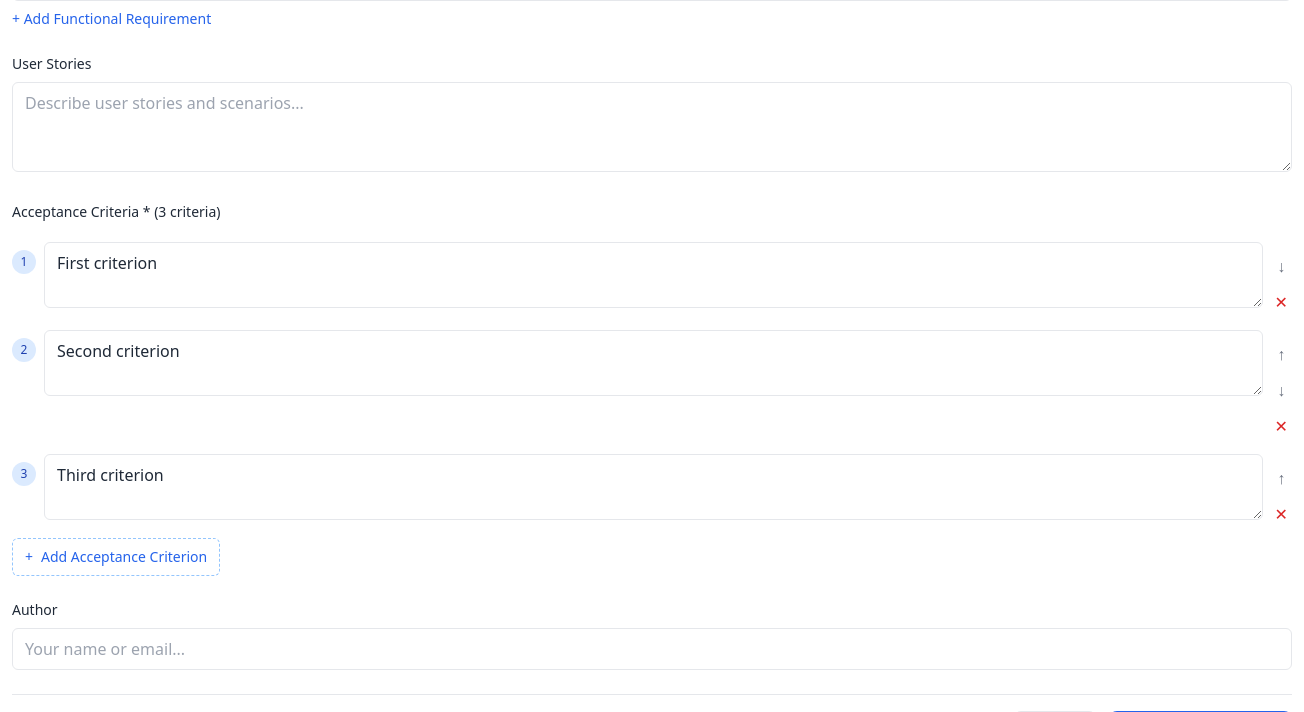
Scenario: RequirementForm - Acceptance Criteria Management › Reordering Criteria › should move criterion up with up arrow button
(page scrolled)
// Move second criterion up
What coordinates should you click on to do the following:
click the 1st button titled "Move up"
I would click on:
 (1281, 354)
Its box is [1271,338,1292,370].
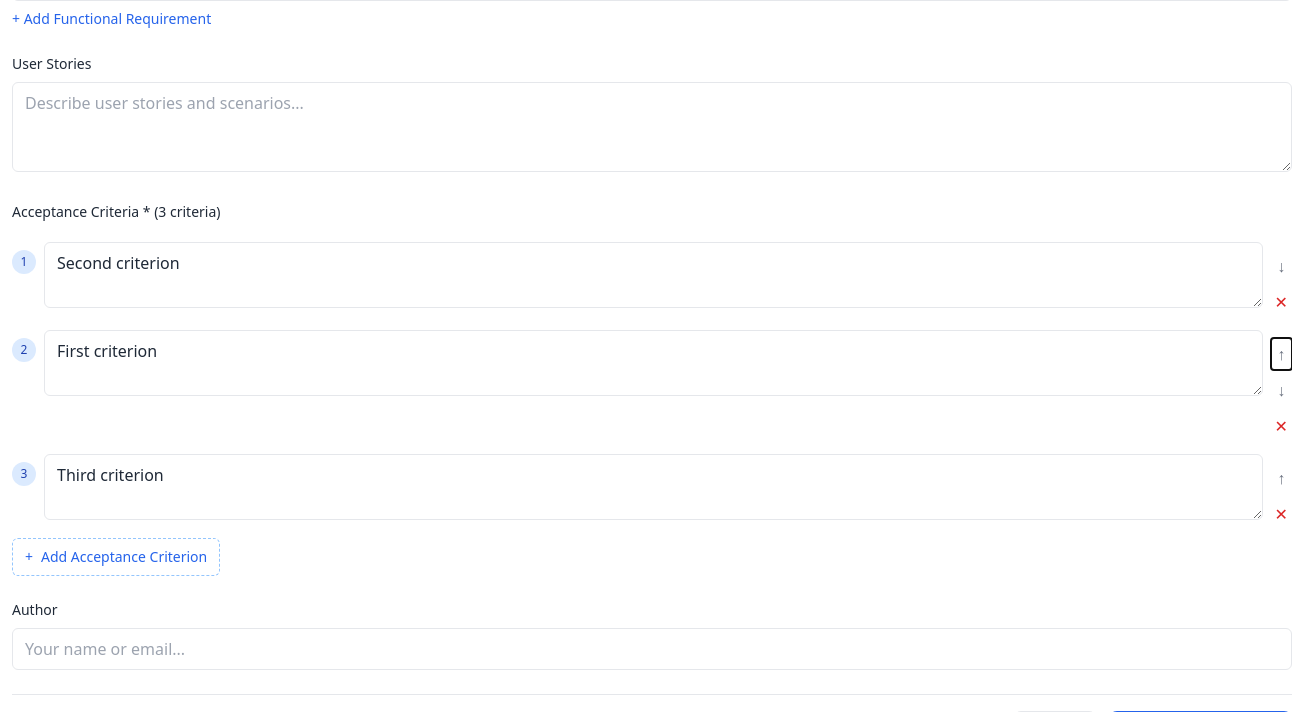
expect the 3rd text box with placeholder "Given [context], when [action], then [outcome]..." holds "Third criterion": met, box [44,454,1263,520]
expect the 1st text box with placeholder "Given [context], when [action], then [outcome]..." holds "Second criterion": met, box [44,242,1263,308]
expect the 2nd text box with placeholder "Given [context], when [action], then [outcome]..." holds "First criterion": met, box [44,330,1263,396]
